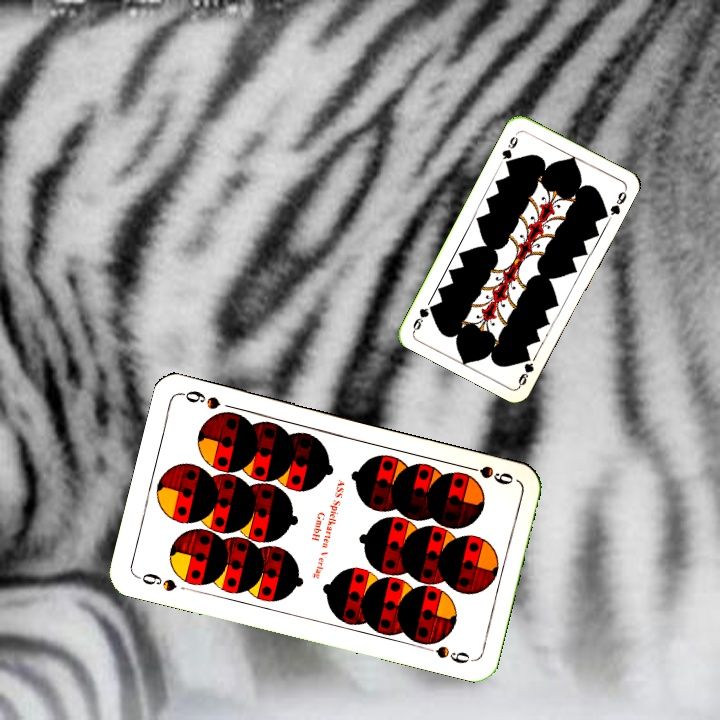G9: (498, 129, 521, 169), (514, 351, 537, 389)
S9: (459, 461, 516, 488), (133, 569, 179, 594)
